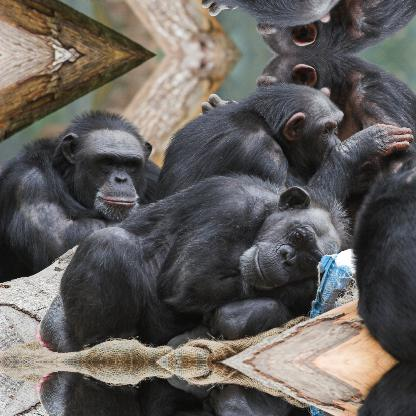Monkey: (27, 166, 358, 340), (149, 80, 414, 206), (193, 53, 414, 172), (11, 108, 160, 284), (354, 149, 414, 360), (193, 0, 415, 55), (148, 0, 414, 29), (353, 362, 415, 415)
